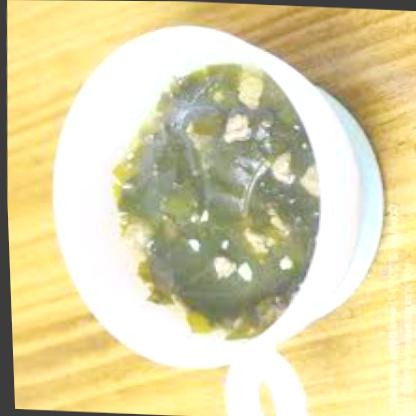seaweed: (100, 52, 322, 345)
